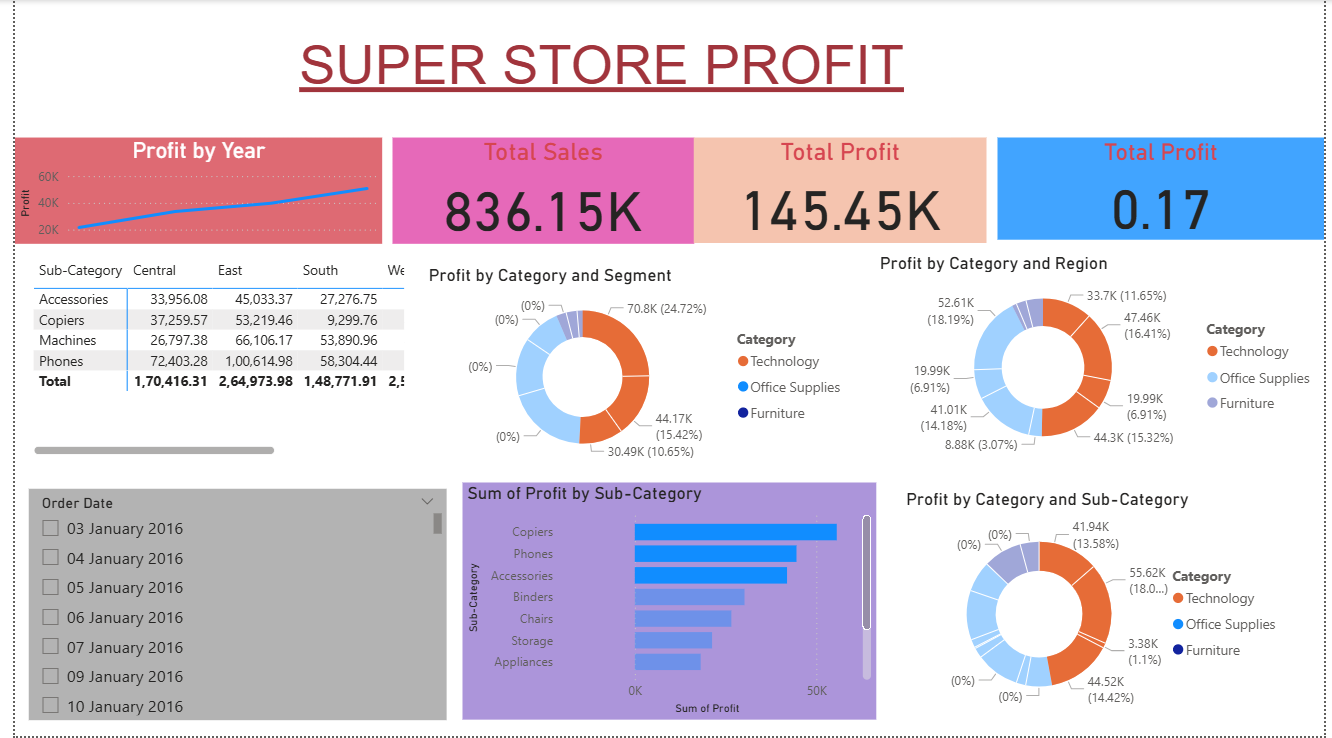

Layout of this report page (visuals, bound fields, positions):
{"tool":"powerbi","page":{"name":"Regional Performance Insights","canvas":[1280,720],"ordinal":0},"visuals":[{"type":"donutChart","fields":{"Category":["Orders.Category"],"Y":["Sum(Orders.Profit)"],"Series":["Orders.Region"]},"box":[841.2,247,439.1,205.8],"z":0},{"type":"donutChart","fields":{"Category":["Orders.Category"],"Y":["Sum(Orders.Profit)"],"Series":["Orders.Sub-Category"]},"box":[867.2,477.5,380.1,226.4],"z":1000},{"type":"donutChart","fields":{"Category":["Orders.Category"],"Y":["Sum(Orders.Profit)"],"Series":["Orders.Segment"]},"box":[399.3,259.3,421.3,200.3],"z":2000},{"type":"barChart","fields":{"Y":["Sum(Orders.Profit)"],"Category":["Orders.Sub-Category"]},"box":[437.7,472,404.8,231.9],"z":3000},{"type":"card","title":"Total Sales","fields":{"Values":["Sum(Orders.Sales)"]},"box":[369.1,134.5,295,104.3],"z":4000},{"type":"card","title":"Total Profit","fields":{"Values":["Sum(Orders.Profit)"]},"box":[664.2,134.5,286.8,102.9],"z":5000},{"type":"card","title":"Total Profit","fields":{"Values":["Orders.Profit Margin \\%"]},"box":[960.6,134.5,319.7,100.2],"z":6000},{"type":"slicer","fields":{"Values":["Orders.Order Date"]},"box":[13.7,477.5,408.9,226.4],"z":7000},{"type":"lineChart","fields":{"Category":["Orders.Order Date.Variation.Date Hierarchy.Year","Orders.Order Date.Variation.Date Hierarchy.Quarter"],"Y":["Sum(Orders.Profit)"]},"box":[0,134.5,359.5,104.3],"z":8000},{"type":"pivotTable","fields":{"Rows":["Orders.Sub-Category"],"Columns":["Orders.Region"],"Values":["Sum(Orders.Sales)"]},"box":[13.7,248.4,371.9,201.7],"z":9000},{"type":"textbox","box":[0,27.4,915.3,107],"z":10000}]}

Visuals, with their boxes in screenshot pixels (x1, y1, x2, y2), scaled from the page's 1280x720 canvas onto the 1332x738 screenshot:
donutChart - Orders.Category x Sum(Orders.Profit): [left=875, top=253, right=1331, bottom=464]
donutChart - Orders.Category x Sum(Orders.Profit): [left=902, top=489, right=1298, bottom=721]
donutChart - Orders.Category x Sum(Orders.Profit): [left=416, top=266, right=854, bottom=471]
barChart - Sum(Orders.Profit) x Orders.Sub-Category: [left=455, top=484, right=877, bottom=721]
"Total Sales" card: [left=384, top=138, right=691, bottom=245]
"Total Profit" card: [left=691, top=138, right=990, bottom=243]
"Total Profit" card: [left=1000, top=138, right=1331, bottom=241]
slicer - Orders.Order Date: [left=14, top=489, right=440, bottom=721]
lineChart - Orders.Order Date.Variation.Date Hierarchy.Year x Orders.Order Date.Variation.Date Hierarchy.Quarter: [left=0, top=138, right=374, bottom=245]
pivotTable - Orders.Sub-Category x Orders.Region: [left=14, top=255, right=401, bottom=461]
textbox: [left=0, top=28, right=952, bottom=138]
